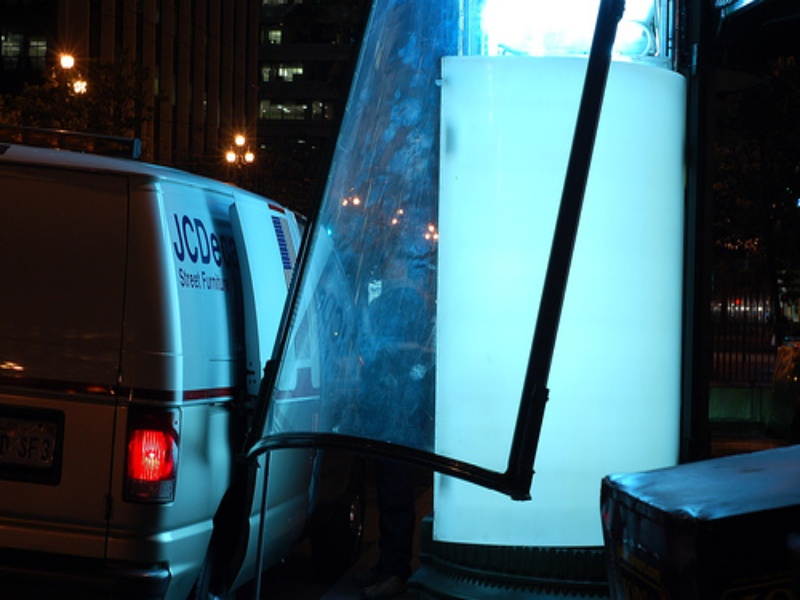car: (1, 139, 359, 600)
